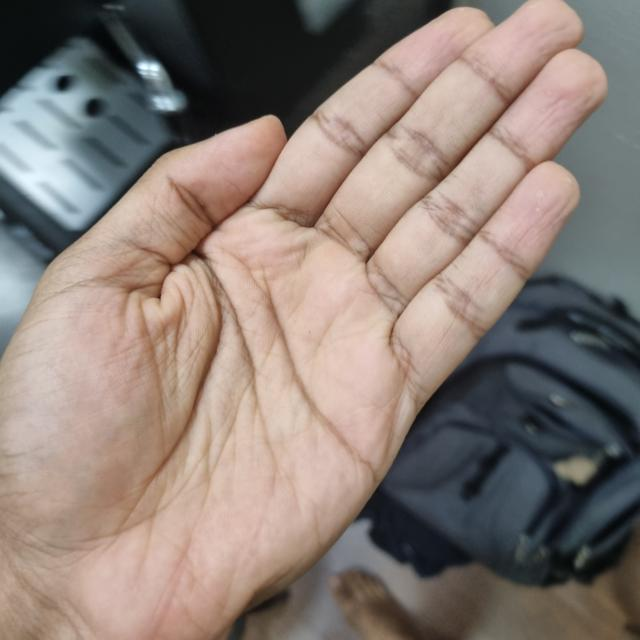Paper: (0, 0, 600, 638)
